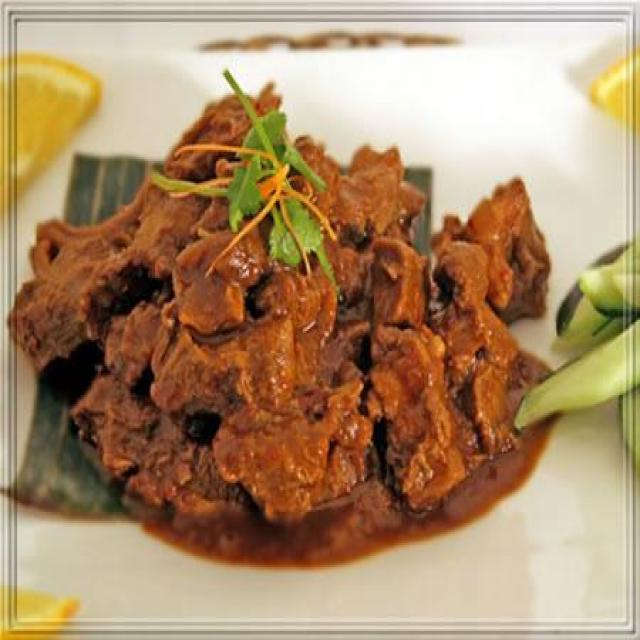Rendang: (0, 87, 534, 549)
